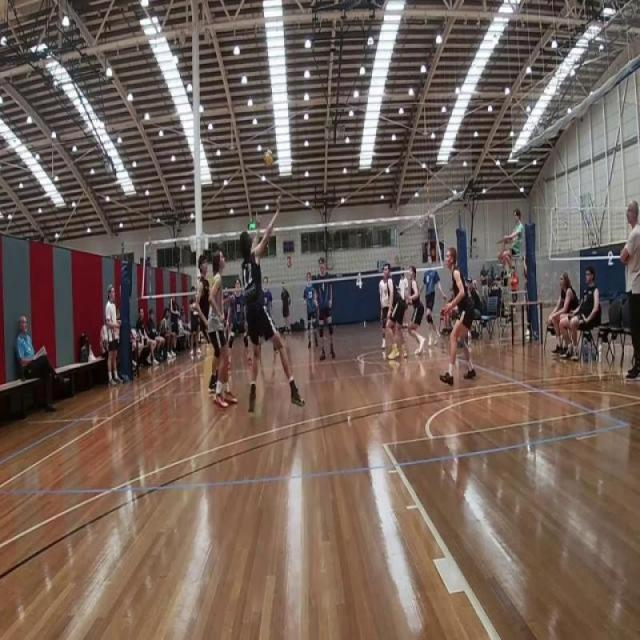volleyball: (263, 149, 274, 168)
